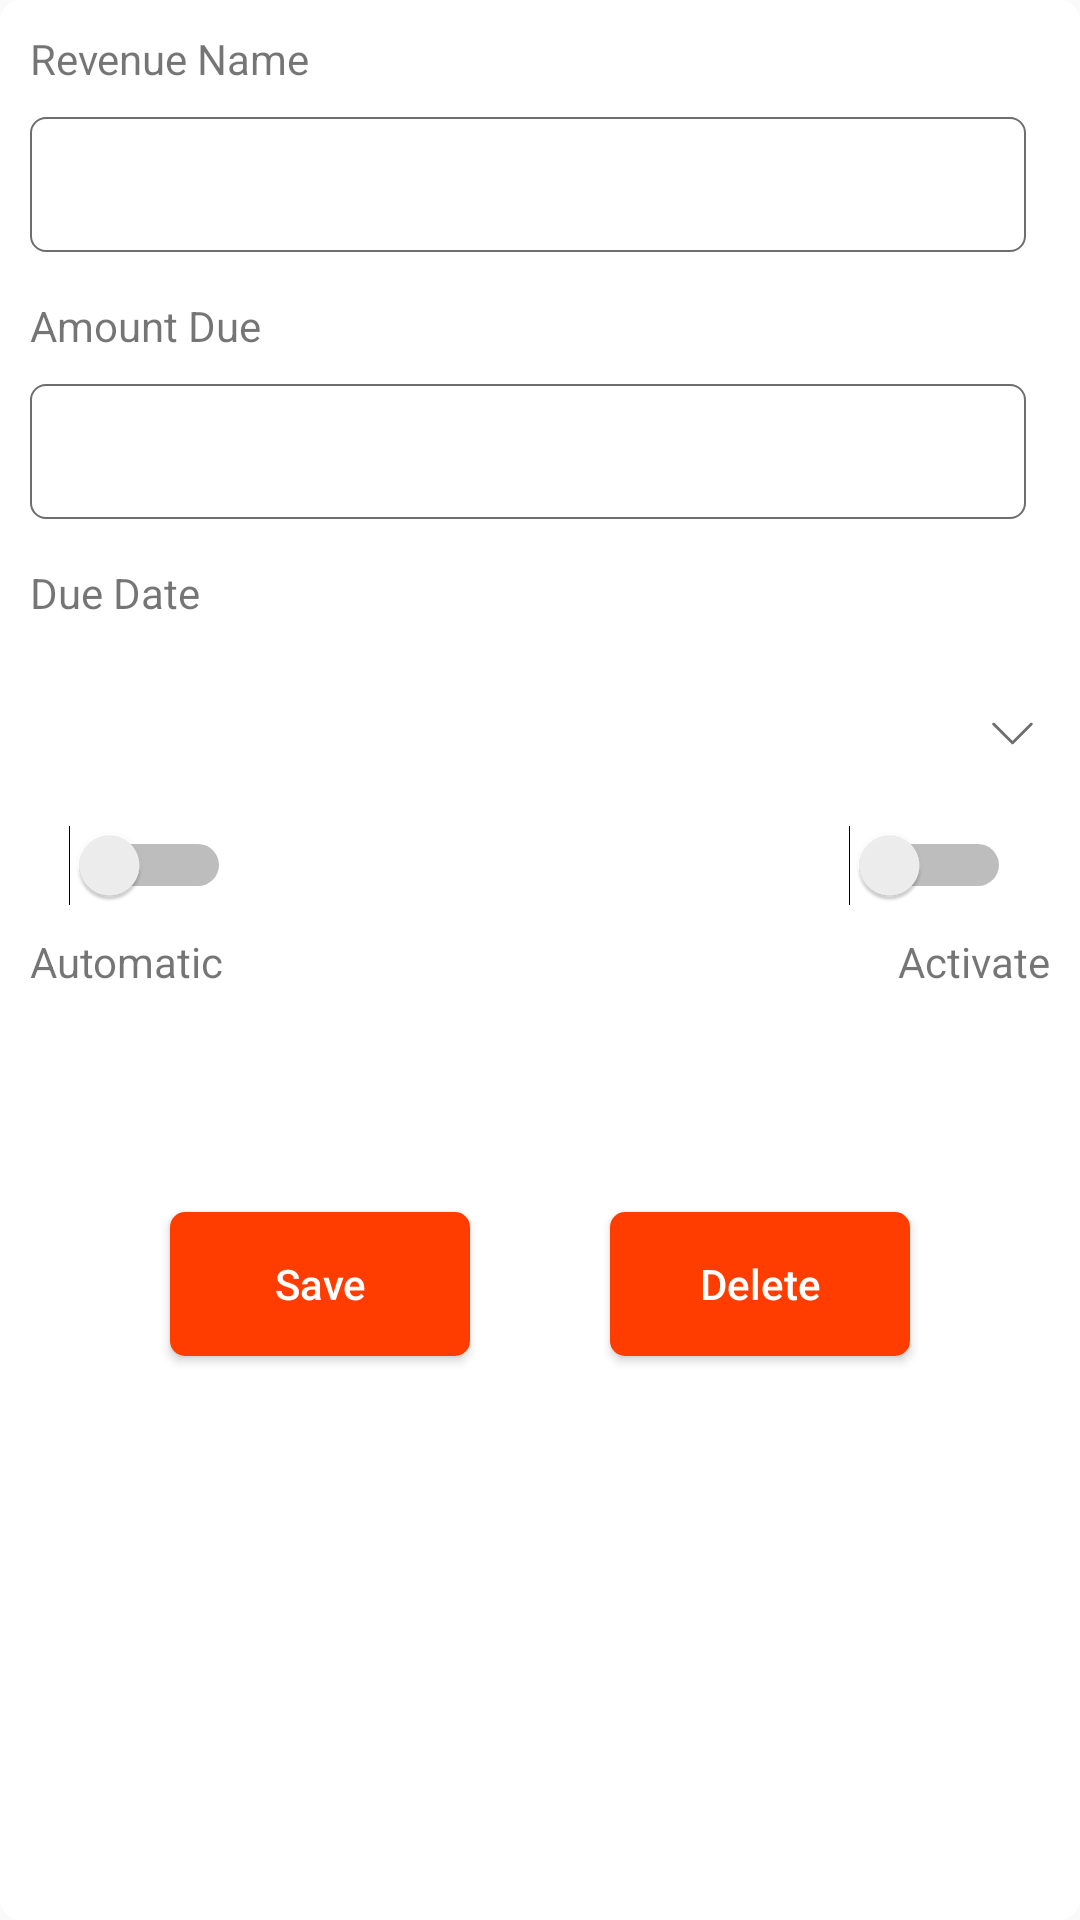

Point at icon controls on the screen. Image size 1080*1920, points as point (x, y).
down arrow: point (1012, 733)
